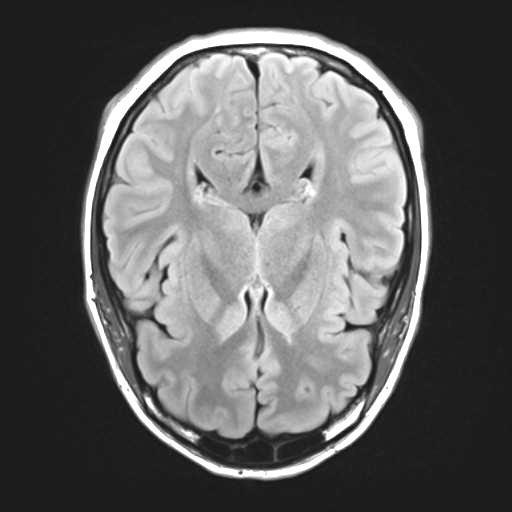Normal_Brain: (27, 20, 456, 512)
